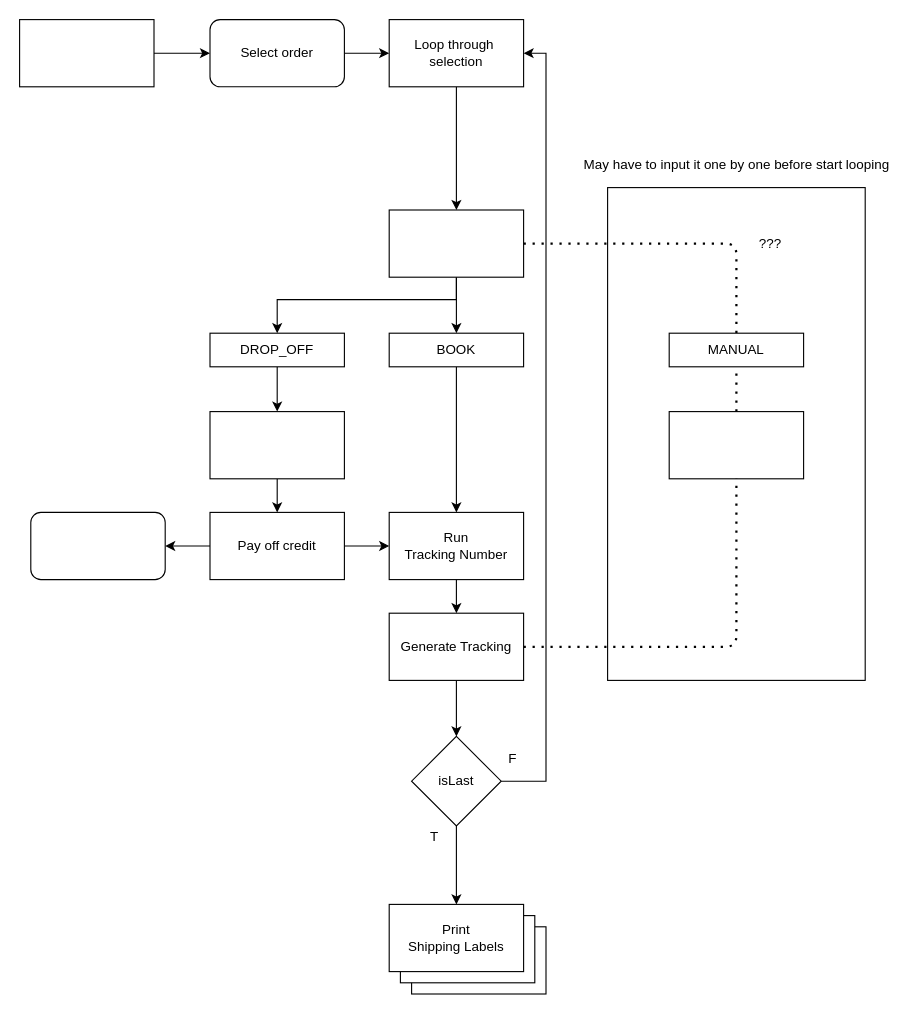
This 918x1014 diagram has some shape labels left out. The centre of each missing label's shape, as x and y in pixels:
Calculate Shipping Weight and Price: the point at 276,444
Check Logistic Type: the point at 456,243
Manual Input Tracking: the point at 736,444
Notify on Balance < ฿200: the point at 97,545
Order Step 4: the point at 86,52
